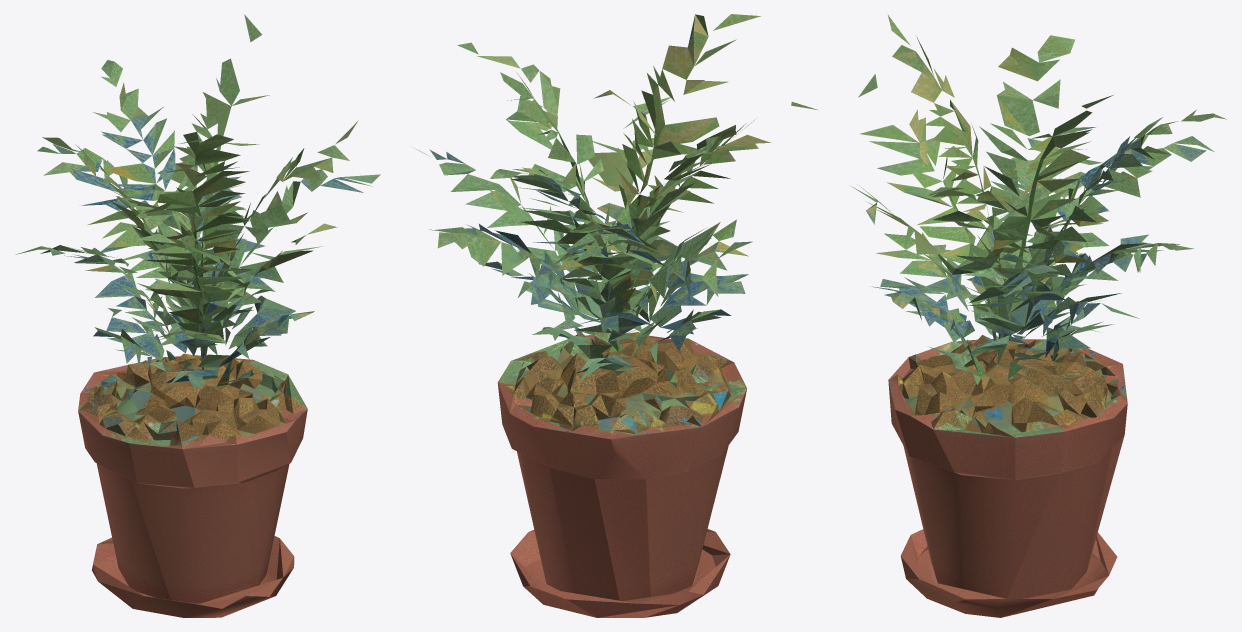
The model's file is fake_plant.glb.
The picture shows the model from 3 angles, left to right: view 1: azimuth 30°, elevation 25°; view 2: azimuth 150°, elevation 25°; view 3: azimuth 270°, elevation 25°; orthographic projection. The views are drawn at different scales.
Bounding box in the file's own units: 1.24 × 1.85 × 1.18.
1 material, 1 textured.
